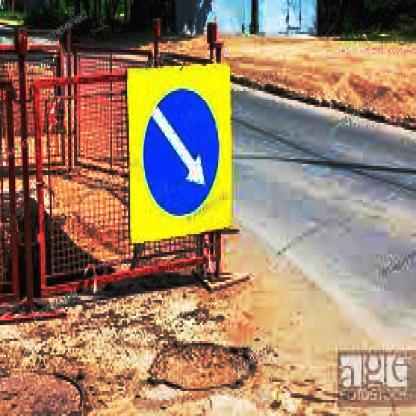Keep right: (142, 87, 223, 222)
